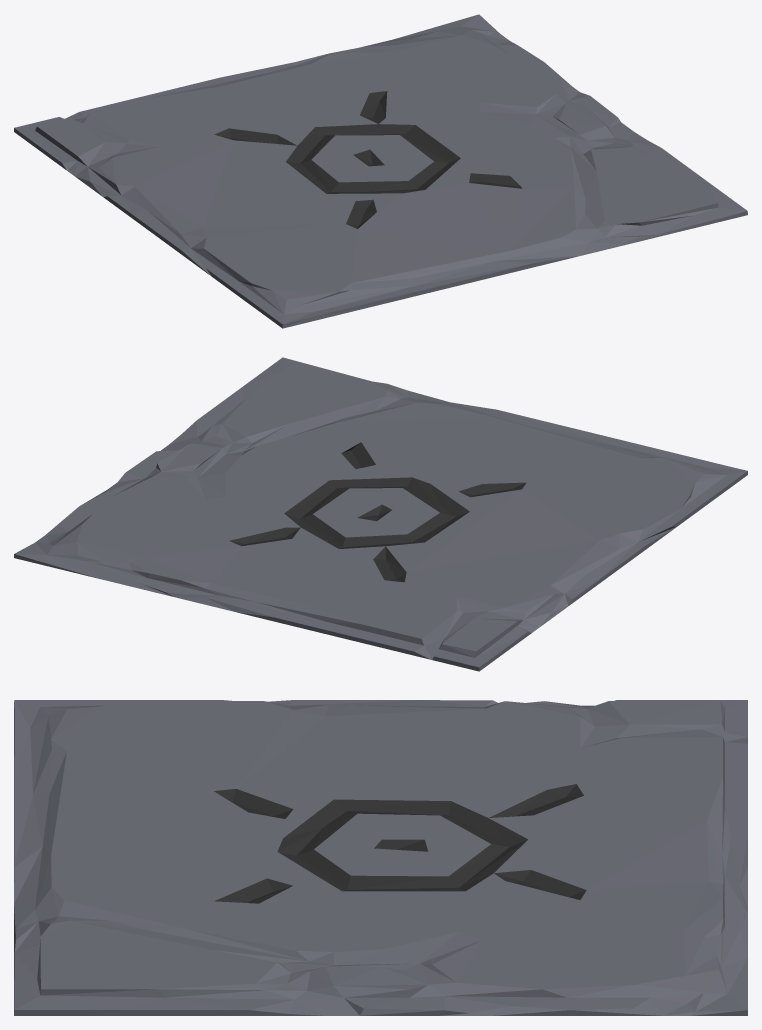
File: Tiles rune_02.FBX
The picture shows the model from 3 angles, top to bottom: view 1: azimuth 30°, elevation 25°; view 2: azimuth 150°, elevation 25°; view 3: azimuth 270°, elevation 25°; orthographic projection. The views are drawn at different scales.
Visible parts, largest first — view 1: Tiles rune_02; view 2: Tiles rune_02; view 3: Tiles rune_02.
Boxes of the visible parts, bbox=[...] form: Tiles rune_02: bbox=[14, 14, 747, 328]; Tiles rune_02: bbox=[14, 357, 747, 671]; Tiles rune_02: bbox=[14, 700, 747, 1015].
Bounding box in the file's own units: 5 × 0.1006 × 5.
